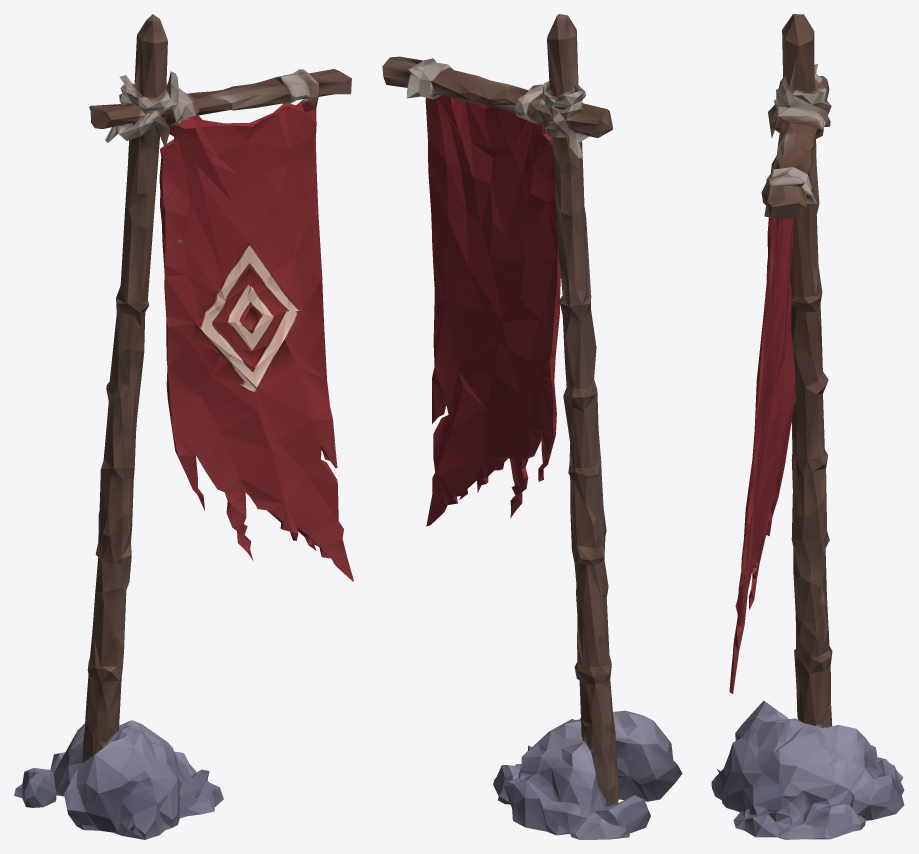
Rendered from banner.glb.
The picture shows the model from 3 angles, left to right: view 1: azimuth 30°, elevation 25°; view 2: azimuth 150°, elevation 25°; view 3: azimuth 270°, elevation 25°; orthographic projection. The views are drawn at different scales.
Visible parts, largest first — view 1: Banner; view 2: Banner; view 3: Banner.
Boxes of the visible parts, x1=… form: Banner: x1=14, y1=14, x2=353, y2=839; Banner: x1=382, y1=14, x2=682, y2=839; Banner: x1=711, y1=14, x2=904, y2=839.
Bounding box in the file's own units: 0.3949 × 0.9996 × 0.2186.
1 material, 1 textured.
